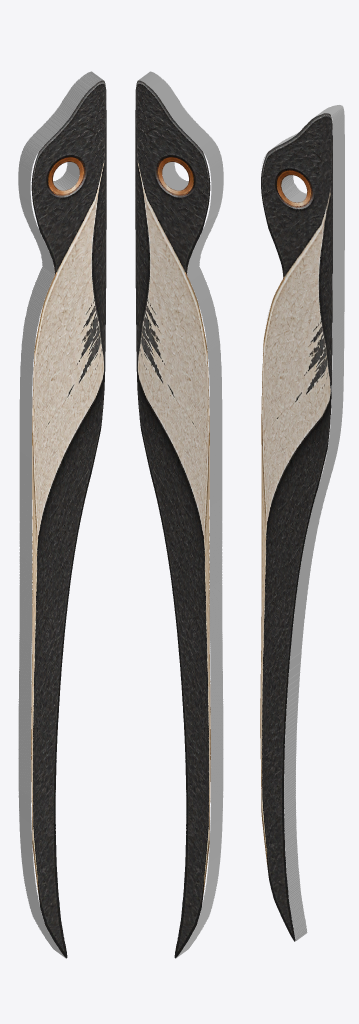
The model's file is LowerLeg.glb.
3 renders of one model, left to right at view 1: azimuth 30°, elevation 25°; view 2: azimuth 150°, elevation 25°; view 3: azimuth 330°, elevation 25°, orthographic. The views are drawn at different scales.
Parts seen in each view (by area): view 1: PaperVolume; view 2: PaperVolume; view 3: PaperVolume.
Boxes of the visible parts, left/top/right/bottom form: PaperVolume: left=18, top=71, right=106, bottom=958; PaperVolume: left=135, top=71, right=223, bottom=958; PaperVolume: left=260, top=105, right=344, bottom=941.
Size of the model in its own units: 0.3 by 3.6 by 0.08.
3 materials, 2 textured.
